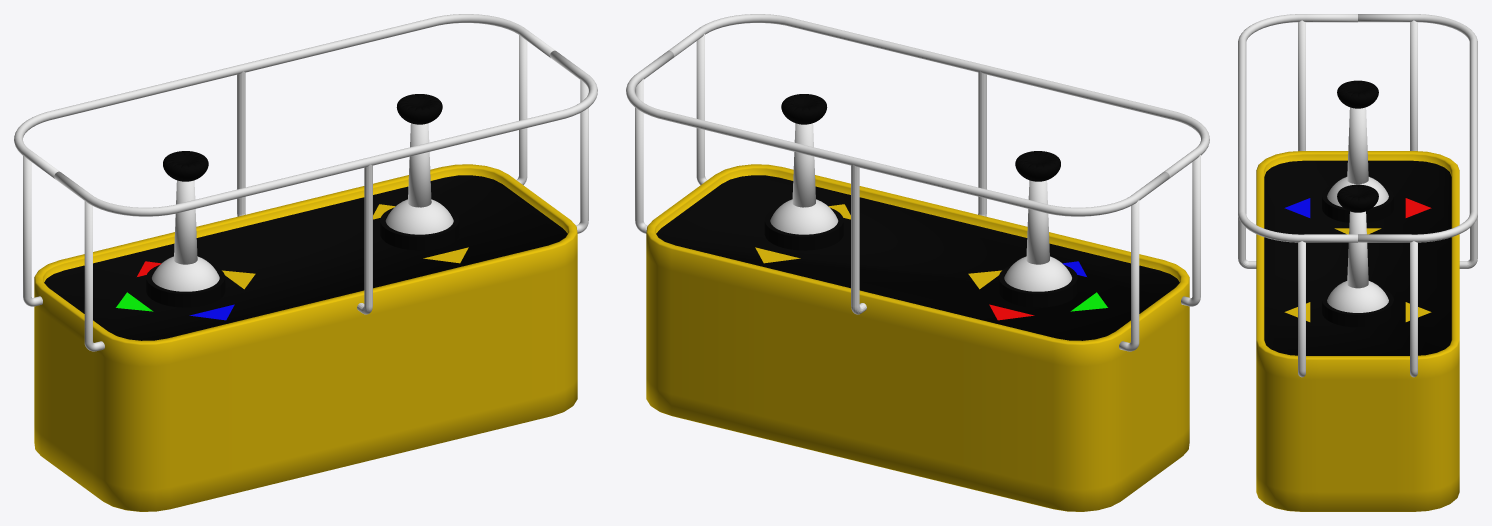
Rendered from crane_remote.glb.
The picture shows the model from 3 angles, left to right: view 1: azimuth 30°, elevation 25°; view 2: azimuth 150°, elevation 25°; view 3: azimuth 270°, elevation 25°; orthographic projection. The views are drawn at different scales.
Parts seen in each view (by area): view 1: Cube, Cylinder.004, Cylinder.003, Cylinder.001, Icosphere, Icosphere.002, Cylinder, Cylinder.005, Cylinder.006, Cylinder.002, Icosphere.003, Icosphere.001; view 2: Cube, Cylinder.004, Cylinder.003, Cylinder.001, Icosphere, Icosphere.002, Cylinder, Cylinder.005, Cylinder.006, Cylinder.002, Icosphere.003, Icosphere.001; view 3: Cube, Cylinder.004, Cylinder.003, Cylinder.005, Icosphere, Cylinder, Cylinder.002, Cylinder.006, Icosphere.001, Icosphere.003, Cylinder.001, Icosphere.002 (+2 smaller).
Boxes of the visible parts, x1=… form: Cube: x1=34, y1=164, x2=577, y2=511; Cylinder.004: x1=14, y1=14, x2=597, y2=216; Cylinder.003: x1=23, y1=34, x2=588, y2=351; Cylinder.001: x1=237, y1=71, x2=372, y2=314; Icosphere: x1=385, y1=199, x2=453, y2=234; Icosphere.002: x1=152, y1=256, x2=219, y2=291; Cylinder: x1=408, y1=123, x2=431, y2=207; Cylinder.005: x1=174, y1=180, x2=197, y2=264; Cylinder.006: x1=146, y1=265, x2=225, y2=307; Cylinder.002: x1=380, y1=207, x2=459, y2=250; Icosphere.003: x1=163, y1=151, x2=208, y2=181; Icosphere.001: x1=396, y1=94, x2=442, y2=124; Cube: x1=646, y1=164, x2=1189, y2=511; Cylinder.004: x1=626, y1=14, x2=1209, y2=216; Cylinder.003: x1=635, y1=34, x2=1200, y2=351; Cylinder.001: x1=851, y1=71, x2=986, y2=314; Icosphere: x1=770, y1=199, x2=838, y2=234; Icosphere.002: x1=1004, y1=256, x2=1071, y2=291; Cylinder: x1=792, y1=123, x2=815, y2=207; Cylinder.005: x1=1026, y1=180, x2=1049, y2=264; Cylinder.006: x1=998, y1=265, x2=1077, y2=307; Cylinder.002: x1=764, y1=207, x2=843, y2=250; Icosphere.003: x1=1015, y1=151, x2=1060, y2=181; Icosphere.001: x1=781, y1=94, x2=827, y2=124; Cube: x1=1256, y1=151, x2=1459, y2=511; Cylinder.004: x1=1238, y1=14, x2=1477, y2=242; Cylinder.003: x1=1298, y1=20, x2=1417, y2=377; Cylinder.005: x1=1347, y1=107, x2=1368, y2=184; Icosphere: x1=1327, y1=281, x2=1388, y2=312; Cylinder: x1=1347, y1=211, x2=1368, y2=288; Cylinder.002: x1=1322, y1=288, x2=1393, y2=327; Cylinder.006: x1=1322, y1=184, x2=1393, y2=222; Icosphere.001: x1=1337, y1=184, x2=1378, y2=212; Icosphere.003: x1=1337, y1=80, x2=1378, y2=108; Cylinder.001: x1=1238, y1=216, x2=1477, y2=268; Icosphere.002: x1=1327, y1=177, x2=1388, y2=206.
Bounding box in the file's own units: 1.79 × 1.05 × 0.809.
